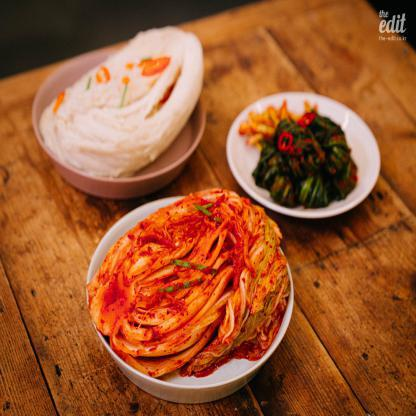kimchi: (76, 160, 304, 385)
